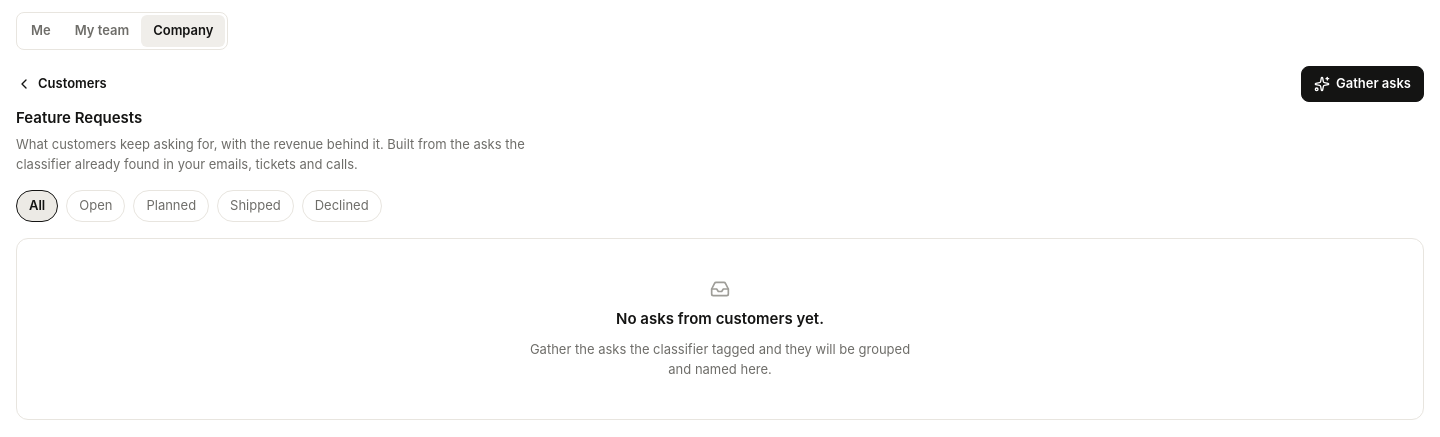
Test: FeatureRequestsPage › gathers and reports what it filed
The width and height of the screenshot is (1440, 437).
Expected: the text "No asks from customers yet." is shown, [616,307,824,331]
What coordinates should you click on to do the following:
click the button "Gather asks"
I would click on:
 (1362, 84)
Its box is [1301,66,1424,102].
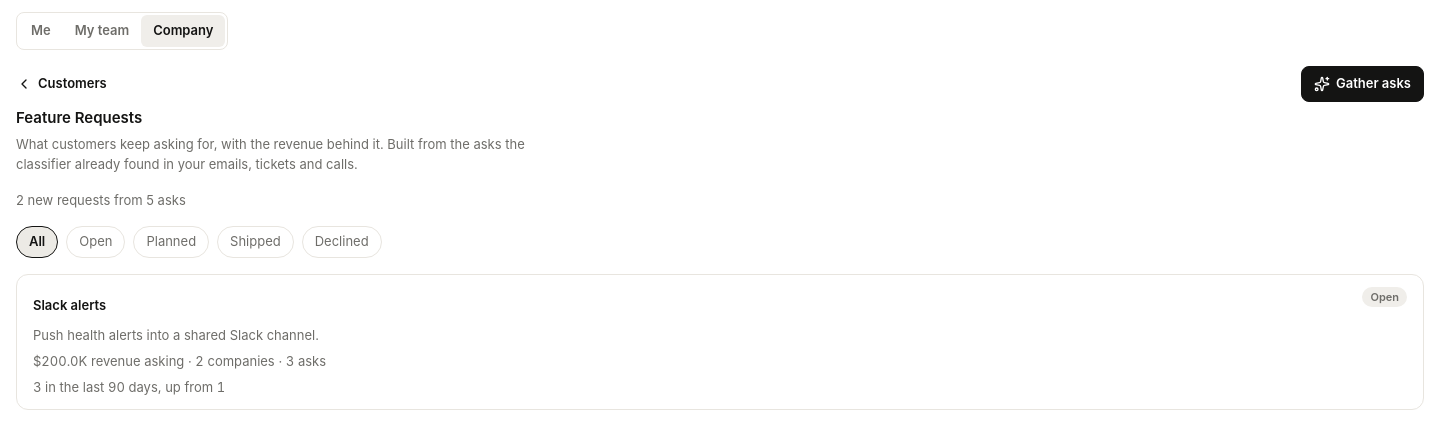
Expected: the message "2 new requests from 5 asks" is shown, [16,192,186,208]
Expected: the button "Slack alerts" is shown, [33,287,319,323]
